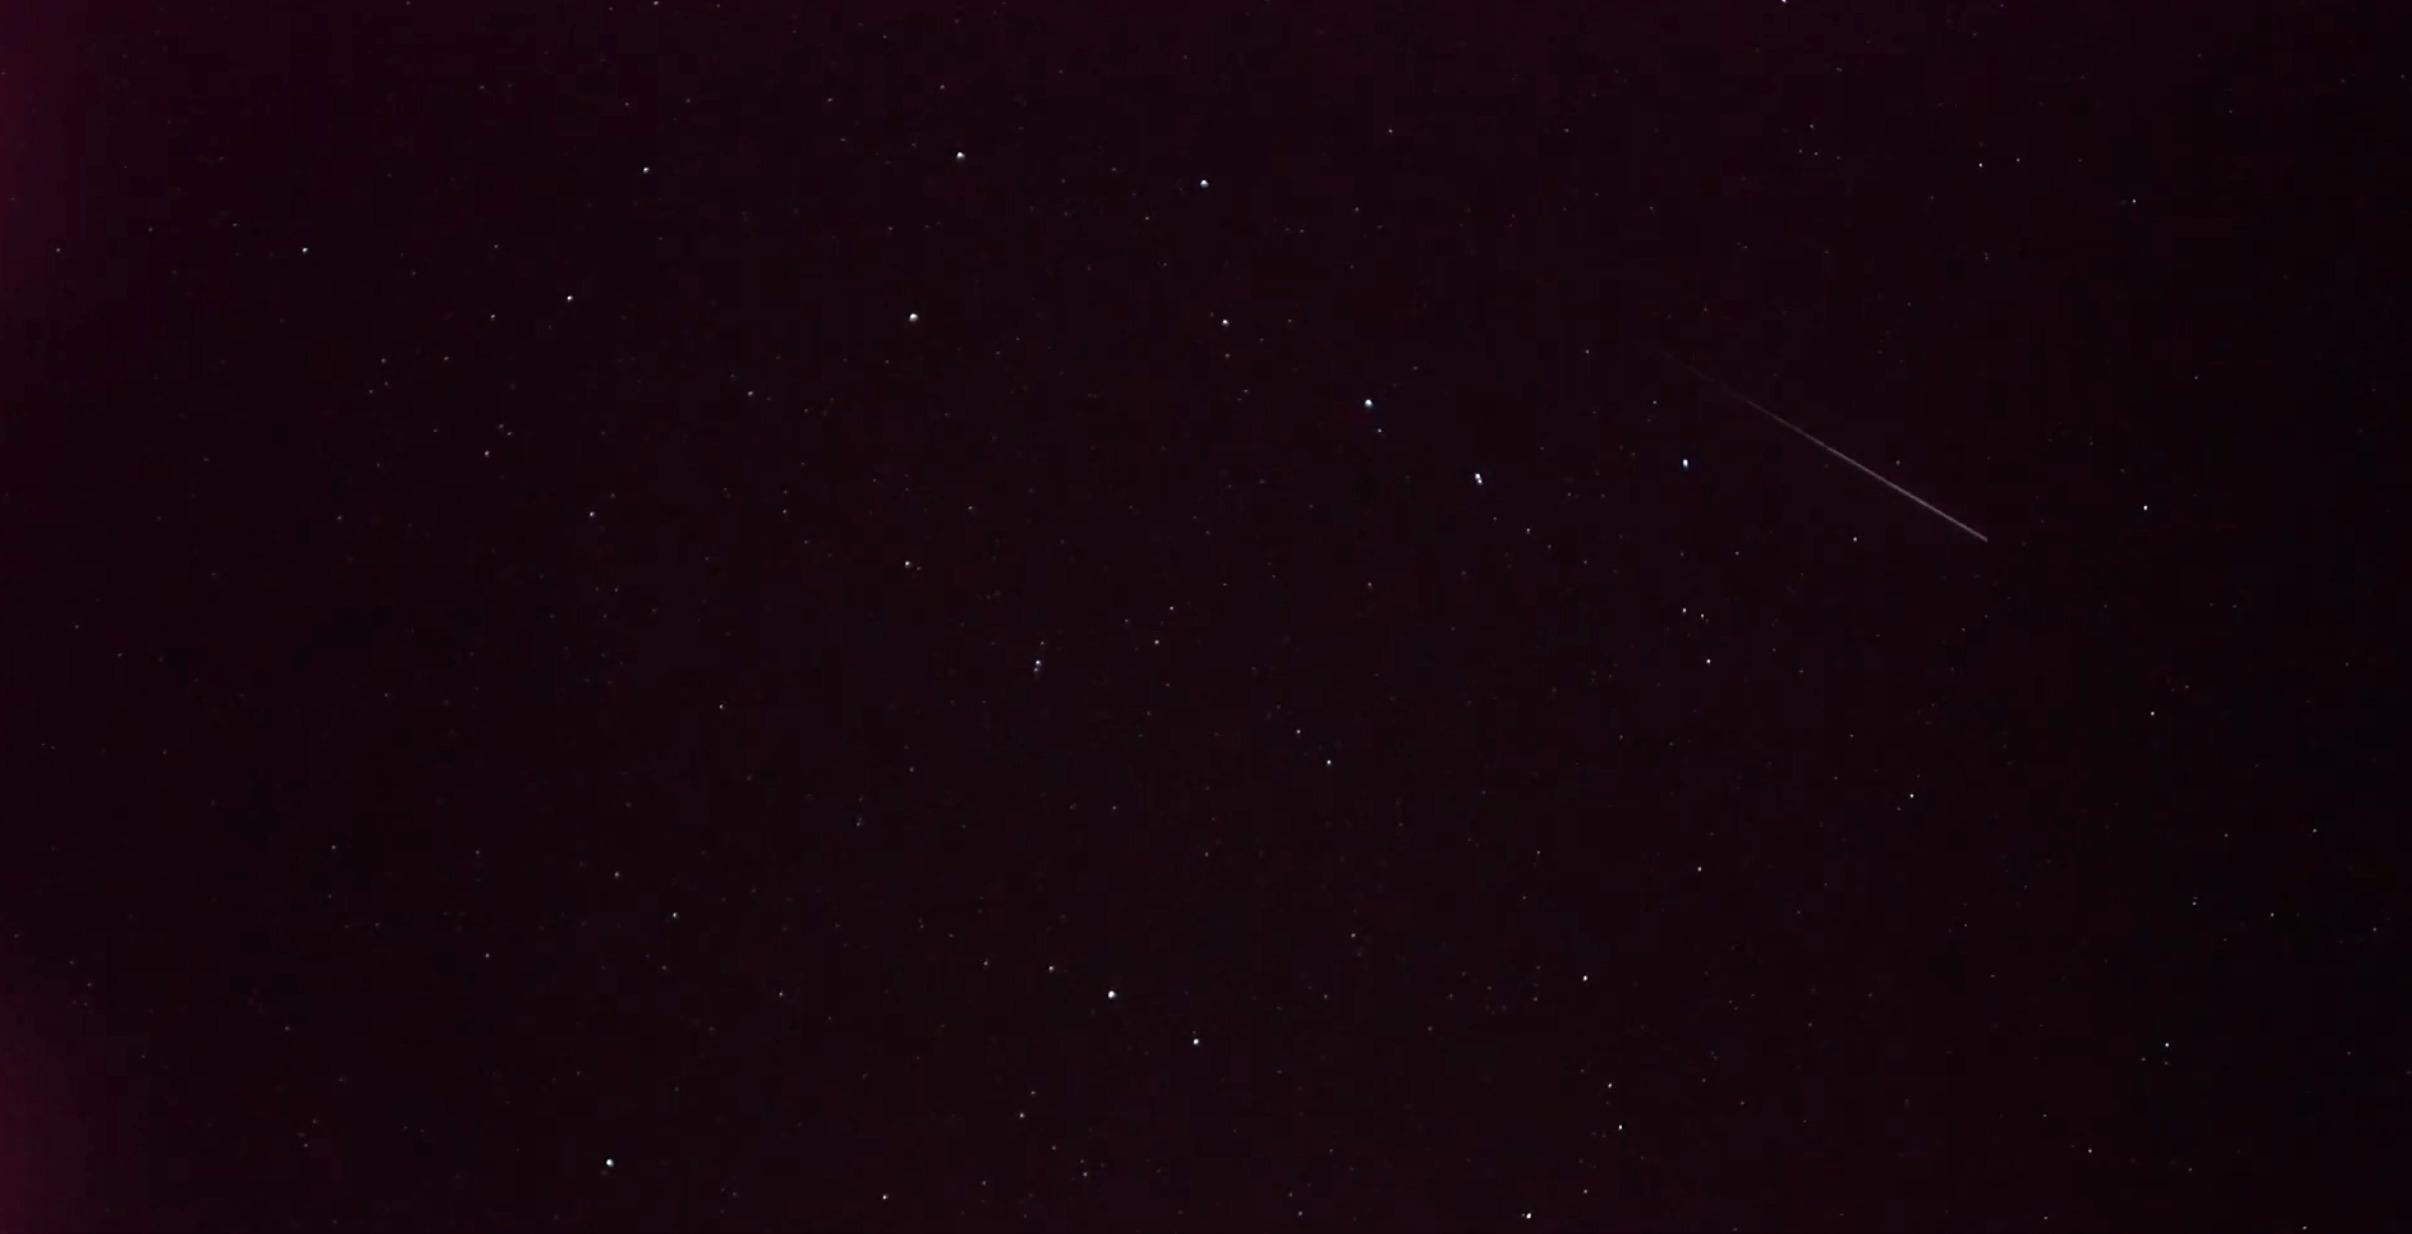meteorite: (1699, 395, 2028, 563)
